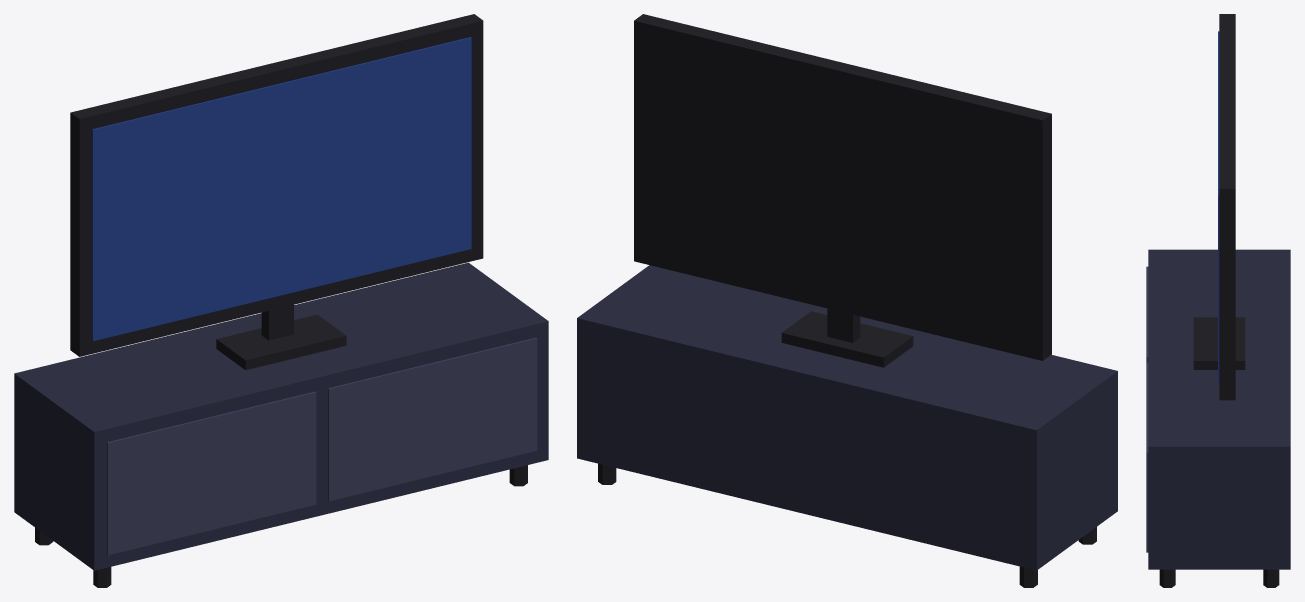
File: tv_stand.ff71d6059662.glb
3 renders of one model, left to right at view 1: azimuth 30°, elevation 25°; view 2: azimuth 150°, elevation 25°; view 3: azimuth 270°, elevation 25°, orthographic. The views are drawn at different scales.
Visible parts, largest first — view 1: tv_stand; view 2: tv_stand; view 3: tv_stand.
Part boxes in pixels (left/top/right/bottom): tv_stand: left=14, top=14, right=548, bottom=587; tv_stand: left=577, top=14, right=1117, bottom=587; tv_stand: left=1146, top=14, right=1290, bottom=587.
Bounding box in the file's own units: 1.44 × 1.34 × 0.446.
